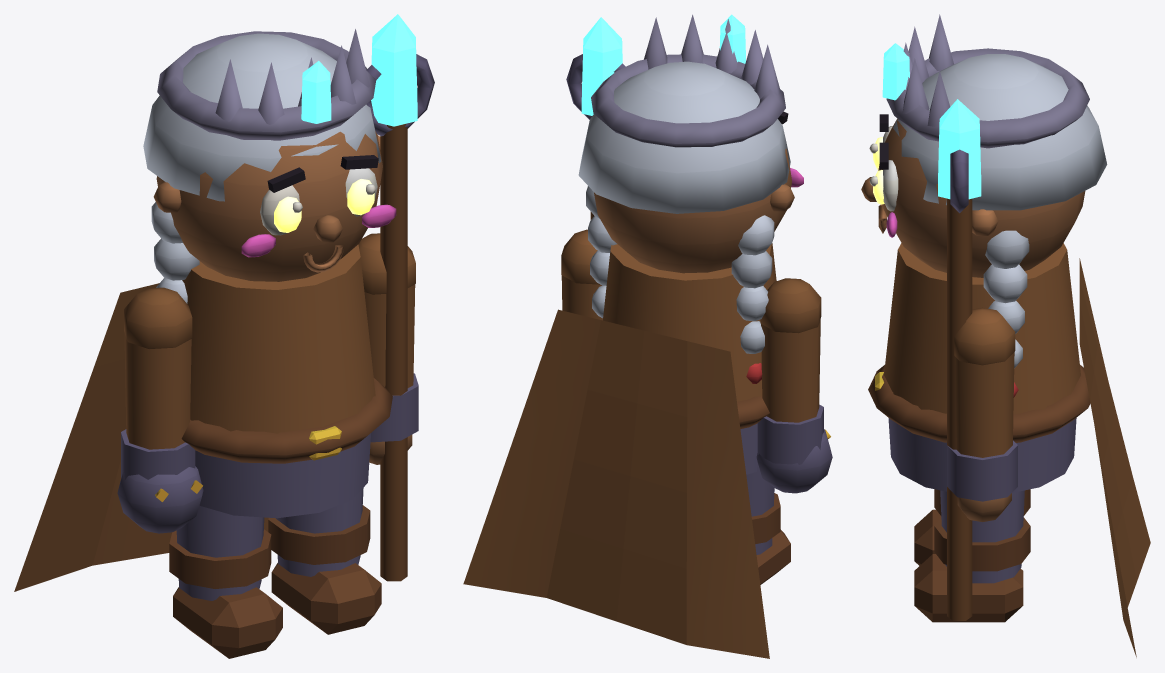
File: hero_rhea.glb
3 renders of one model, left to right at view 1: azimuth 30°, elevation 25°; view 2: azimuth 150°, elevation 25°; view 3: azimuth 270°, elevation 25°, orthographic. The views are drawn at different scales.
Visible parts, largest first — view 1: body_t0_palette, armr_t0_palette, arml_t0_palette, legl_t0_palette, legr_t0_palette, armr_t0_crystal, body_t0_crystal, body_t0_glow_gold; view 2: body_t0_palette, arml_t0_palette, armr_t0_palette, legl_t0_palette, armr_t0_crystal, body_t0_crystal; view 3: body_t0_palette, armr_t0_palette, legr_t0_palette, armr_t0_crystal, legl_t0_palette, body_t0_crystal, body_t0_glow_gold.
Part boxes in pixels (<box>): body_t0_palette: <box>14,29,396,591</box>; armr_t0_palette: <box>358,54,434,581</box>; arml_t0_palette: <box>117,287,203,533</box>; legl_t0_palette: <box>169,505,282,658</box>; legr_t0_palette: <box>268,488,381,634</box>; armr_t0_crystal: <box>371,14,417,126</box>; body_t0_crystal: <box>301,61,331,123</box>; body_t0_glow_gold: <box>274,179,374,232</box>; body_t0_palette: <box>463,14,803,658</box>; arml_t0_palette: <box>756,278,832,493</box>; armr_t0_palette: <box>561,54,625,320</box>; legl_t0_palette: <box>746,462,790,584</box>; armr_t0_crystal: <box>581,17,622,115</box>; body_t0_crystal: <box>719,14,745,63</box>; body_t0_palette: <box>861,14,1150,657</box>; armr_t0_palette: <box>947,149,1017,620</box>; legr_t0_palette: <box>914,490,1030,622</box>; armr_t0_crystal: <box>938,99,981,199</box>; legl_t0_palette: <box>914,489,1030,565</box>; body_t0_crystal: <box>882,43,909,100</box>; body_t0_glow_gold: <box>873,137,884,204</box>.
Size of the model in its own units: 0.32 by 0.53 by 0.253.
